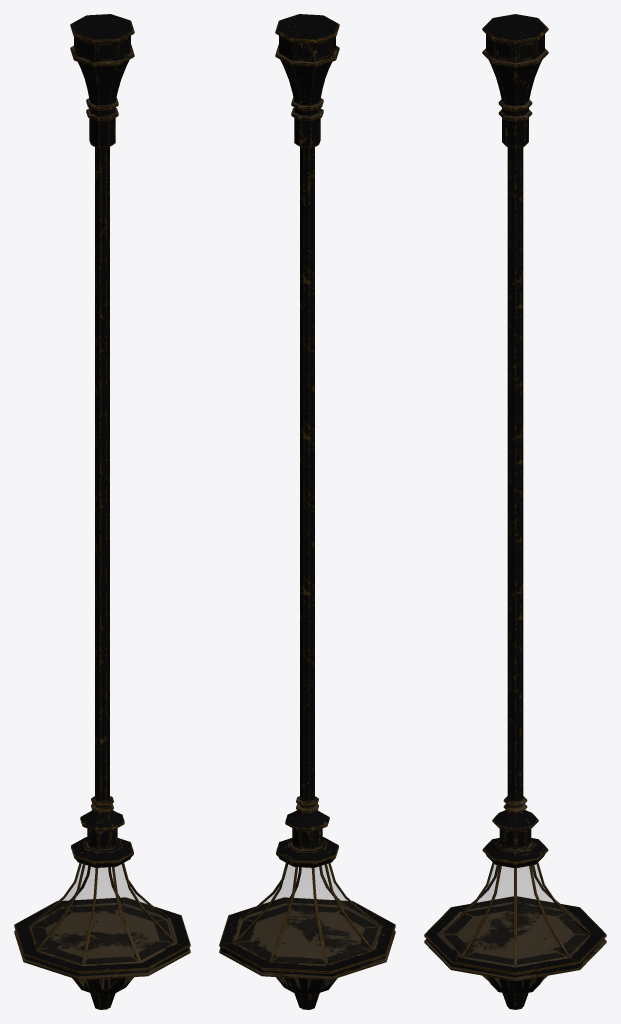
The model's file is lightoff.glb.
3 renders of one model, left to right at view 1: azimuth 30°, elevation 25°; view 2: azimuth 150°, elevation 25°; view 3: azimuth 270°, elevation 25°, orthographic.
Bounding box in the file's own units: 0.6139 × 3.63 × 0.6139.
2 materials, 2 textured.
